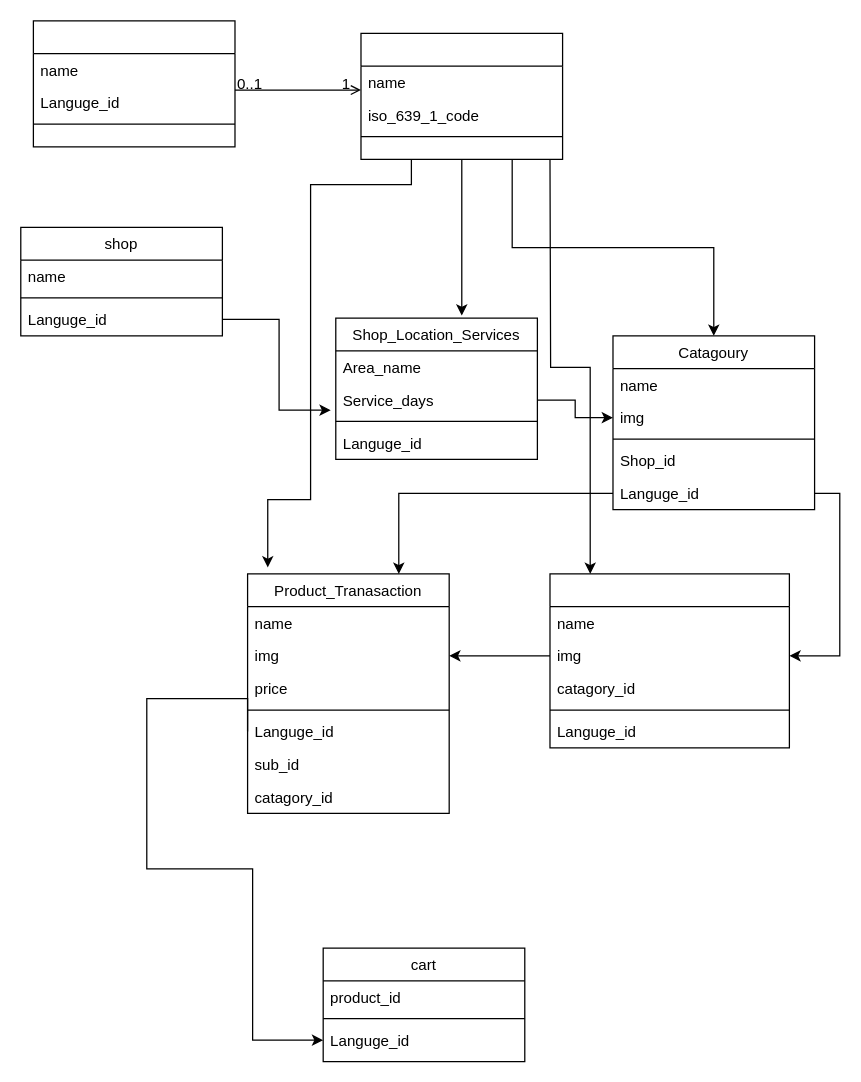
Some shapes in this 861 by 1082 pixel diagram are drawn without their labels. The box of each missing label's shape, as (x1, y1, x2, y2) in pixels:
LableTranslation: (32, 20, 235, 147)
Languges: (360, 32, 563, 159)
sub_Catagoury: (549, 573, 789, 748)
